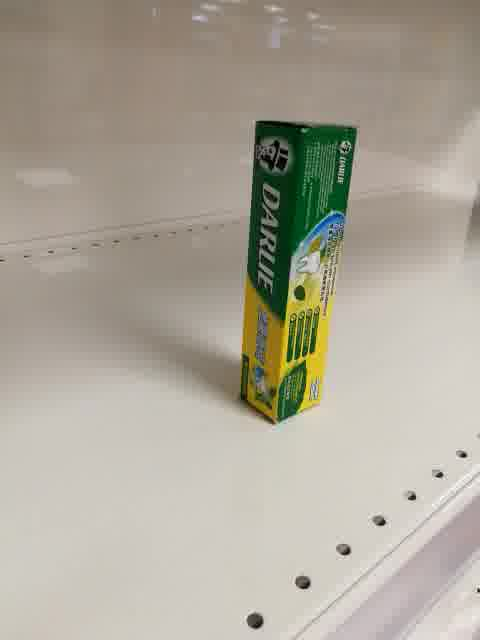toothpaste: (239, 120, 358, 424)
